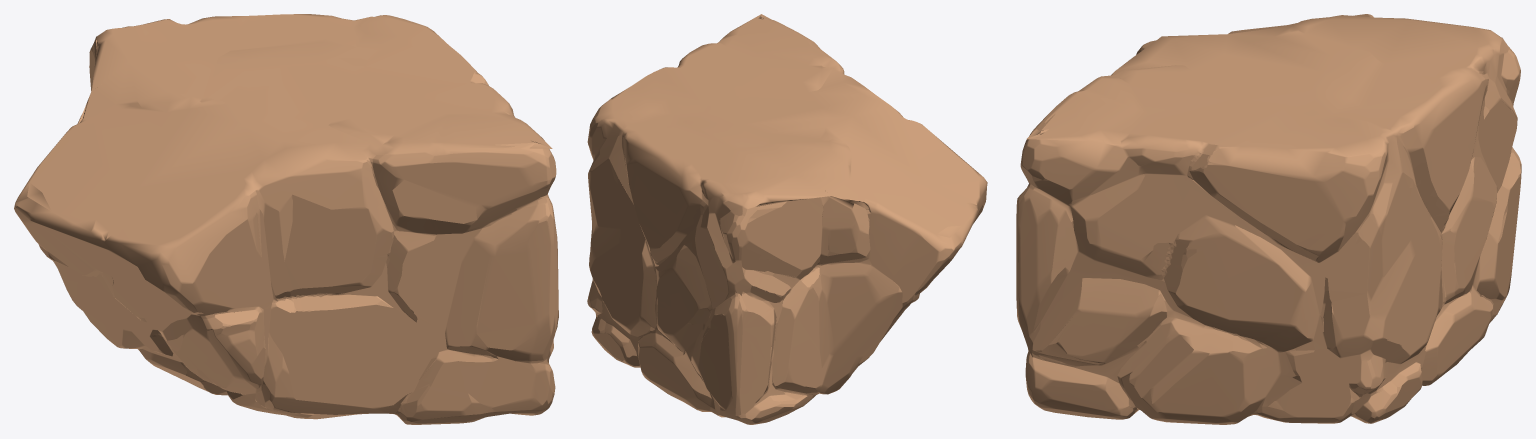
3 views of the same model, side by side, from view 1: azimuth 30°, elevation 25°; view 2: azimuth 150°, elevation 25°; view 3: azimuth 270°, elevation 25° (orthographic). The views are drawn at different scales.
Visible parts, largest first — view 1: Mesh_104_LOD0; view 2: Mesh_104_LOD0; view 3: Mesh_104_LOD0.
Boxes of the visible parts, x1,y1,x2,y2 form: Mesh_104_LOD0: [14, 14, 558, 424]; Mesh_104_LOD0: [587, 14, 987, 424]; Mesh_104_LOD0: [1016, 14, 1521, 424].
Size of what is drawn, in the model's own units: 3308 by 2122 by 3377.
